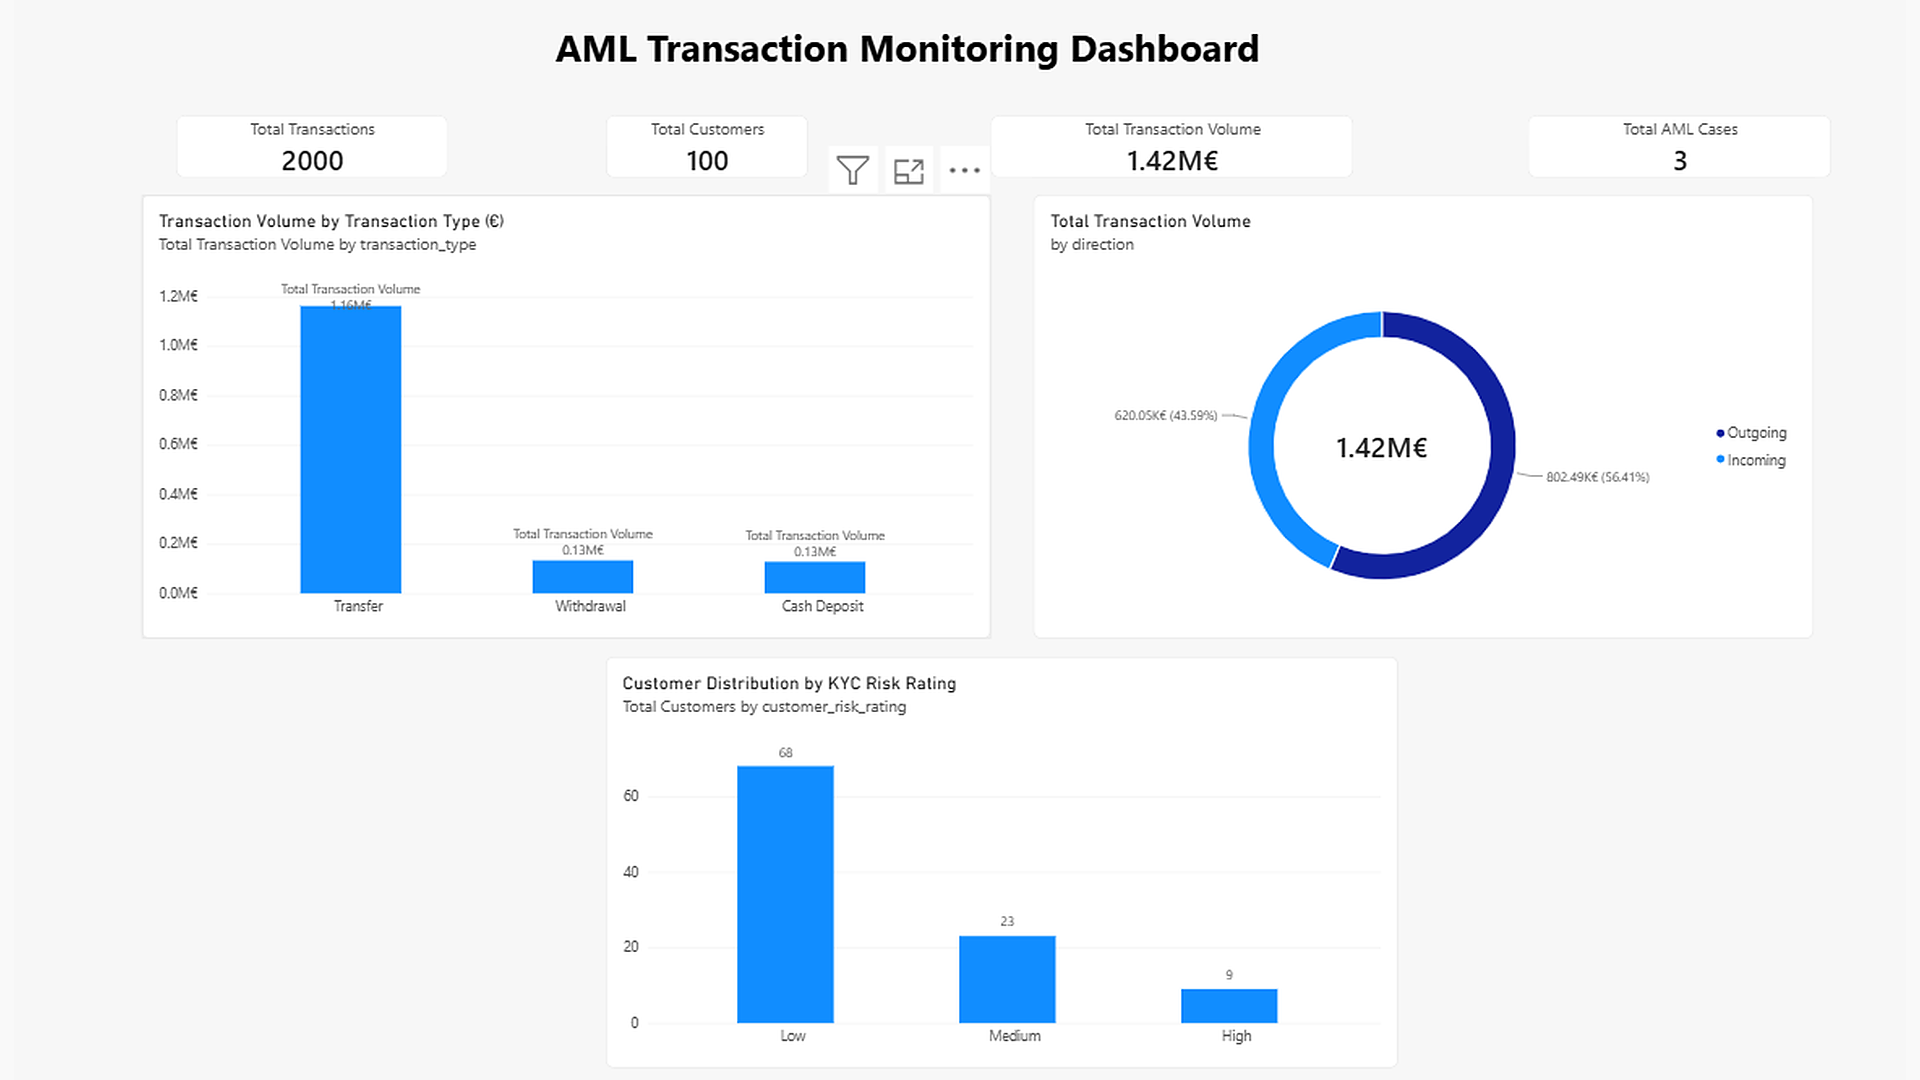

Layout of this report page (visuals, bound fields, positions):
{"tool":"powerbi","page":{"name":"AML Overview","canvas":[1920,1080],"ordinal":0},"visuals":[{"type":"cardVisual","fields":{"Data":["aml_project aml_transactions_v2.Total Transactions"]},"box":[186.2,115.3,271.2,62.7],"z":0},{"type":"cardVisual","fields":{"Data":["aml_project aml_customers_v2.Total Customers"]},"box":[614.6,114.6,235.4,62.5],"z":1000},{"type":"cardVisual","fields":{"Data":["aml_project aml_transactions_v2.Total Transaction Volume"]},"box":[1000,114.6,335.4,62.5],"z":2000},{"type":"cardVisual","fields":{"Data":["aml_project aml_case_reviews_v2.Total AML Cases"]},"box":[1535.4,114.6,285.4,62.5],"z":3000},{"type":"clusteredColumnChart","title":"Transaction Volume by Transaction Type (€)","fields":{"Category":["aml_project aml_transactions_v2.transaction_type"],"Y":["aml_project aml_transactions_v2.Total Transaction Volume"]},"box":[151.8,194.3,847.9,443.2],"z":4000},{"type":"donutChart","fields":{"Category":["aml_project aml_transactions_v2.direction"],"Y":["aml_project aml_transactions_v2.Total Transaction Volume"]},"box":[1042.2,194.3,779.1,443.2],"z":5000},{"type":"clusteredColumnChart","title":"Customer Distribution by KYC Risk Rating","fields":{"Category":["aml_project aml_customers_v2.customer_risk_rating"],"Y":["aml_project aml_customers_v2.Total Customers"]},"box":[615.2,655.7,791.2,410.8],"z":6000},{"type":"textbox","box":[471.5,22.3,890.4,64.8],"z":7000}]}

Visuals, with their boxes in screenshot pixels (x1, y1, x2, y2), scaled from the page's 1920x1080 canvas onto the 1920x1080 screenshot:
cardVisual - aml_project aml_transactions_v2.Total Transactions: select_region(186, 115, 457, 178)
cardVisual - aml_project aml_customers_v2.Total Customers: select_region(615, 115, 850, 177)
cardVisual - aml_project aml_transactions_v2.Total Transaction Volume: select_region(1000, 115, 1335, 177)
cardVisual - aml_project aml_case_reviews_v2.Total AML Cases: select_region(1535, 115, 1821, 177)
"Transaction Volume by Transaction Type (€)" clusteredColumnChart: select_region(152, 194, 1000, 638)
donutChart - aml_project aml_transactions_v2.direction x aml_project aml_transactions_v2.Total Transaction Volume: select_region(1042, 194, 1821, 638)
"Customer Distribution by KYC Risk Rating" clusteredColumnChart: select_region(615, 656, 1406, 1066)
textbox: select_region(472, 22, 1362, 87)
